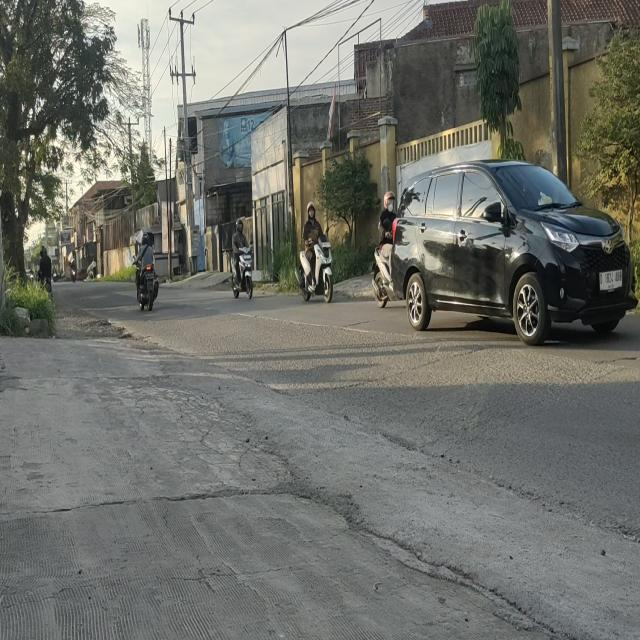helmet: (384, 191, 396, 213), (307, 201, 315, 219), (235, 218, 244, 233)
